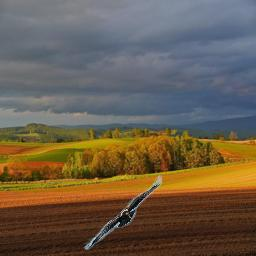Crow: (83, 175, 164, 250)
